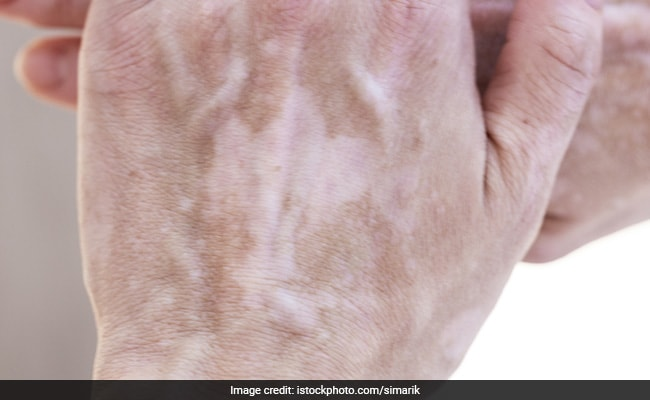Diseased: (94, 11, 473, 329)
